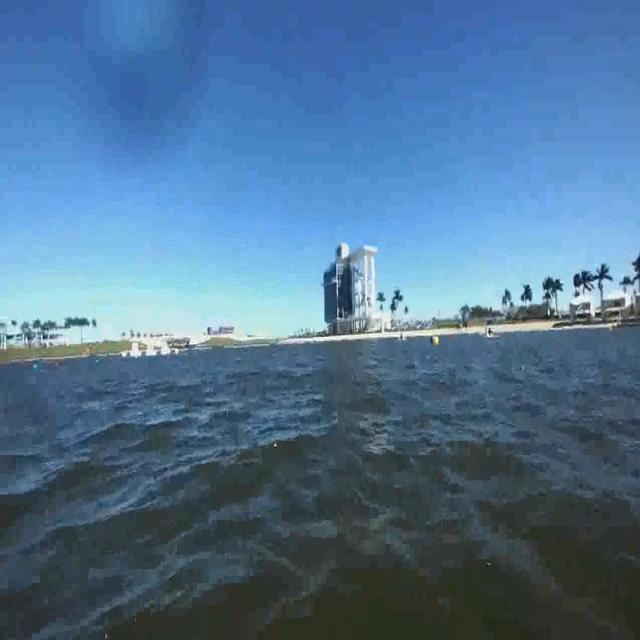yellow-buoy: (432, 336, 439, 348)
